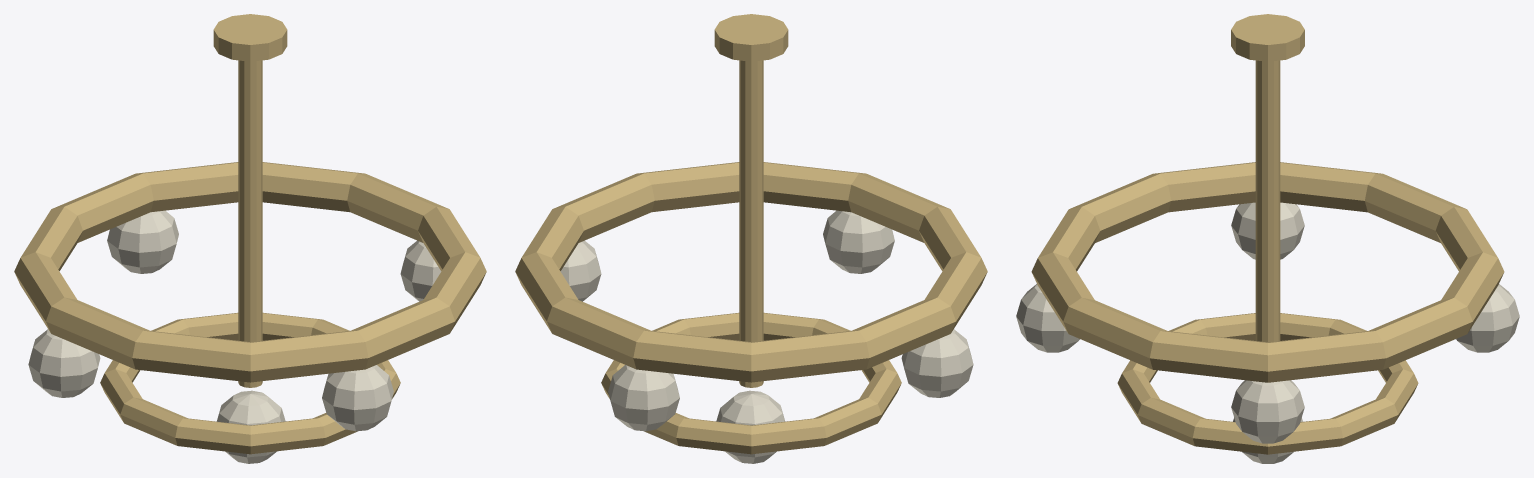
The model's file is ilu_lustre_sala.glb.
The picture shows the model from 3 angles, left to right: view 1: azimuth 30°, elevation 25°; view 2: azimuth 150°, elevation 25°; view 3: azimuth 270°, elevation 25°; orthographic projection.
Parts seen in each view (by area): view 1: ILU_Lustre_Sala_v01; view 2: ILU_Lustre_Sala_v01; view 3: ILU_Lustre_Sala_v01.
Part boxes in pixels (box(x1,y1,x2,y2)): ILU_Lustre_Sala_v01: box(14, 14, 486, 463); ILU_Lustre_Sala_v01: box(515, 14, 987, 463); ILU_Lustre_Sala_v01: box(1016, 14, 1519, 463).
Size of the model in its own units: 0.8141 by 0.775 by 0.82.
